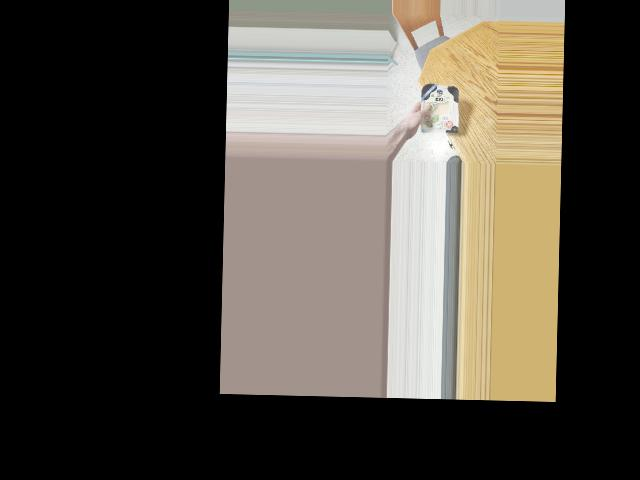cheese: (417, 83, 458, 136)
